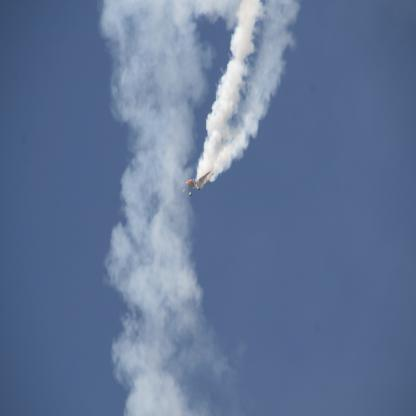aircraft: (183, 169, 212, 190)
